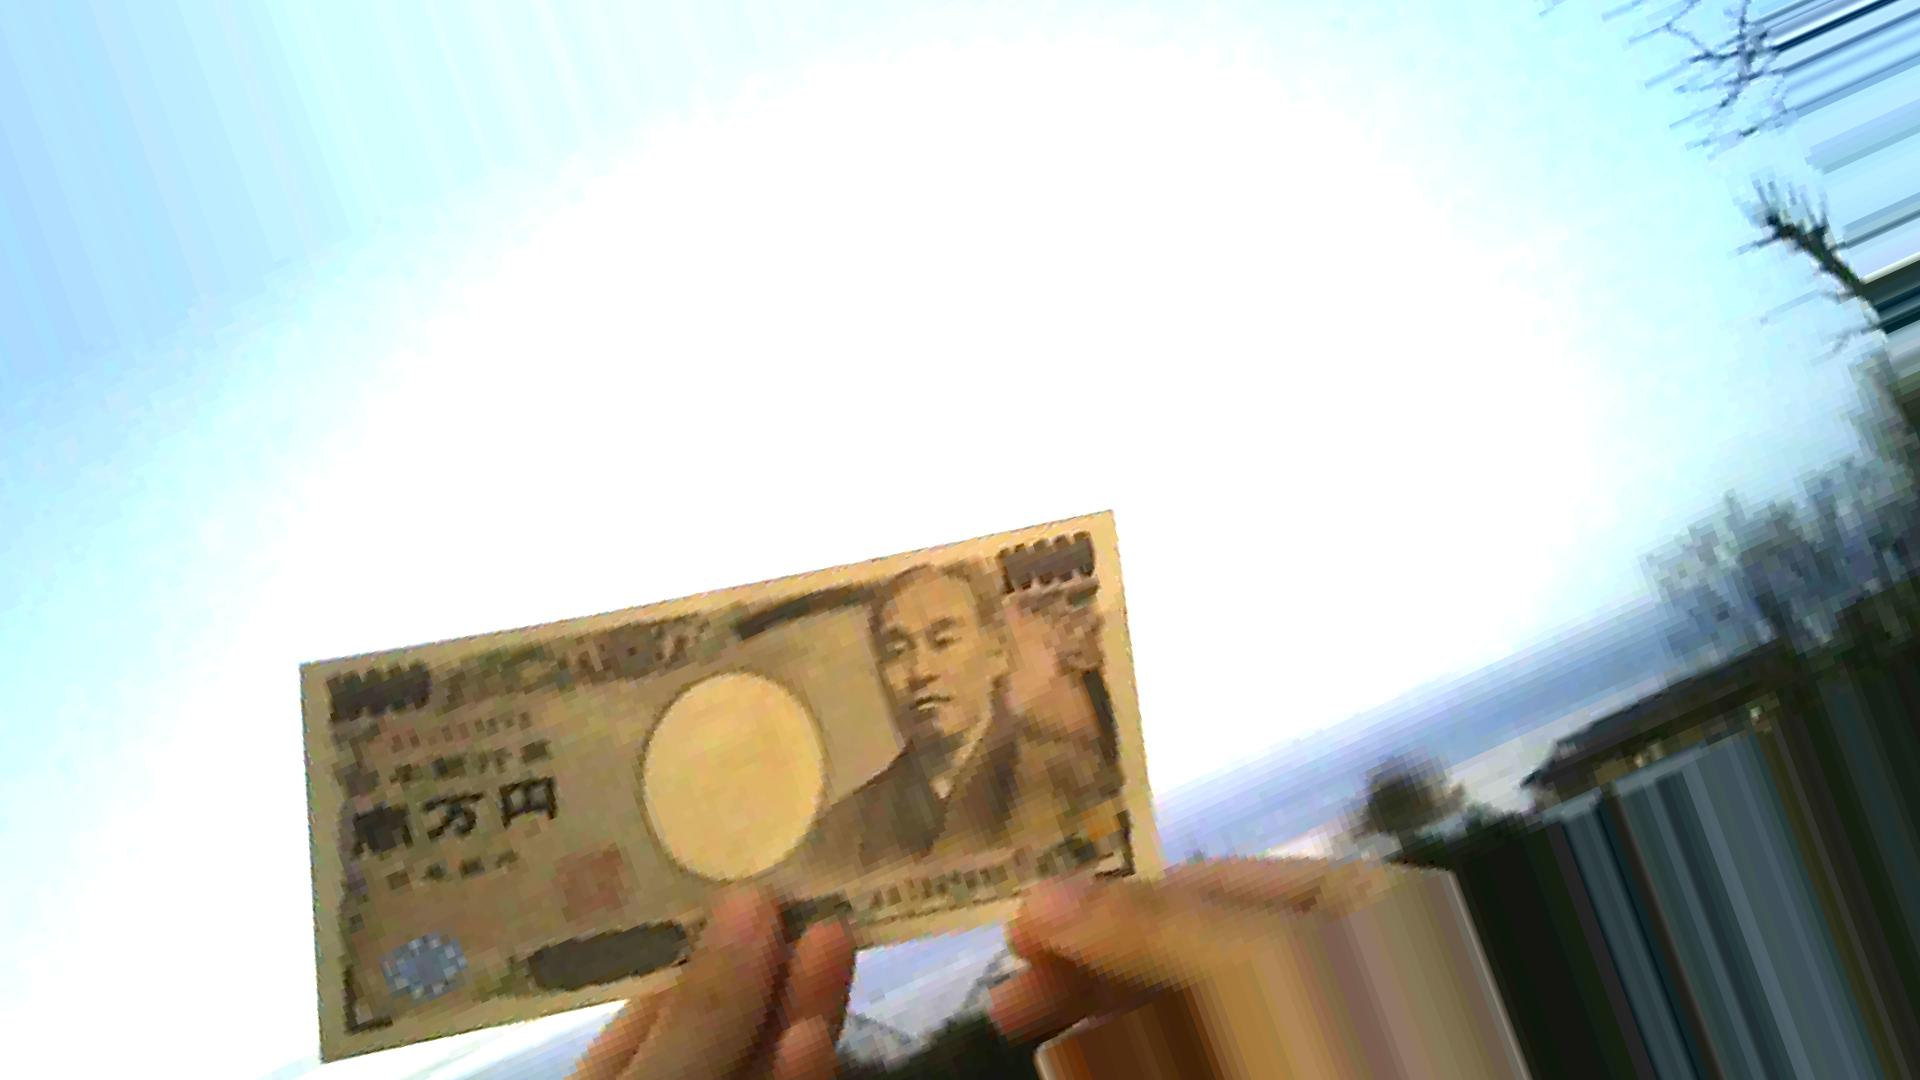10,000 Yen: (289, 495, 1184, 1030)
